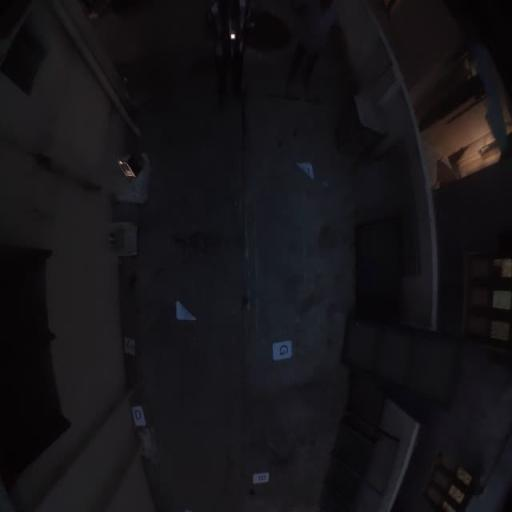B: (252, 473, 270, 484)
D: (131, 405, 146, 428)
G: (272, 340, 292, 361)
